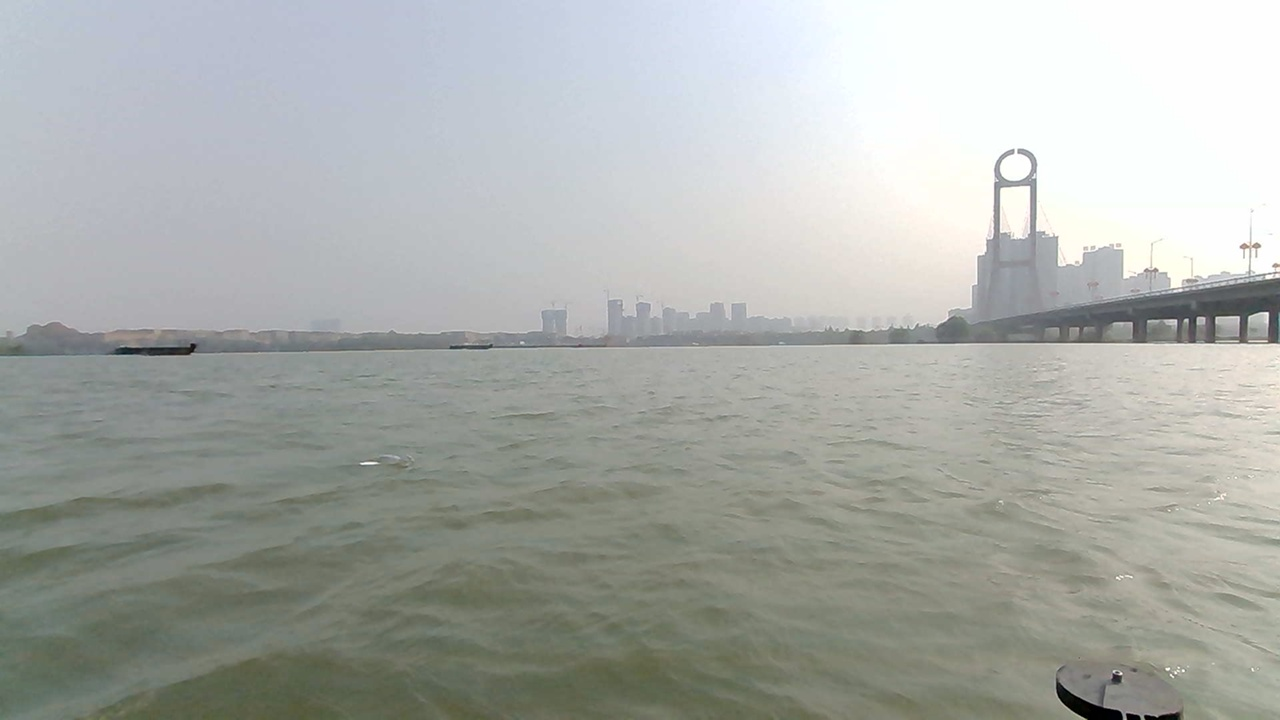bottle: (330, 438, 407, 481)
